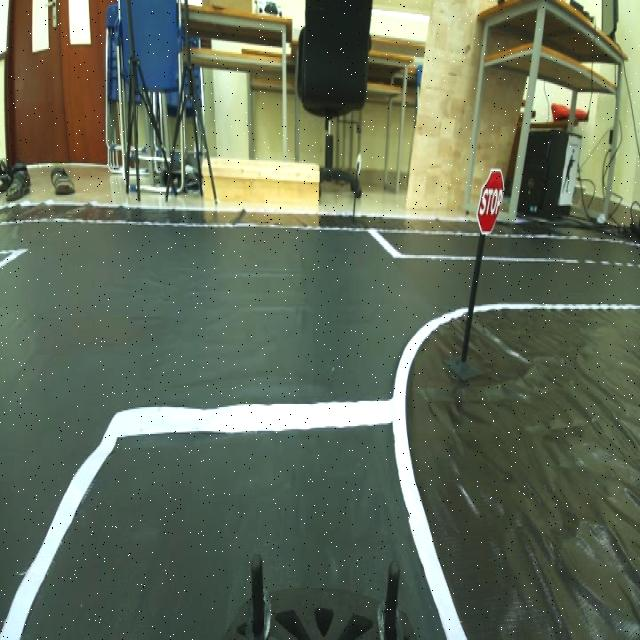stop: (475, 162, 505, 242)
